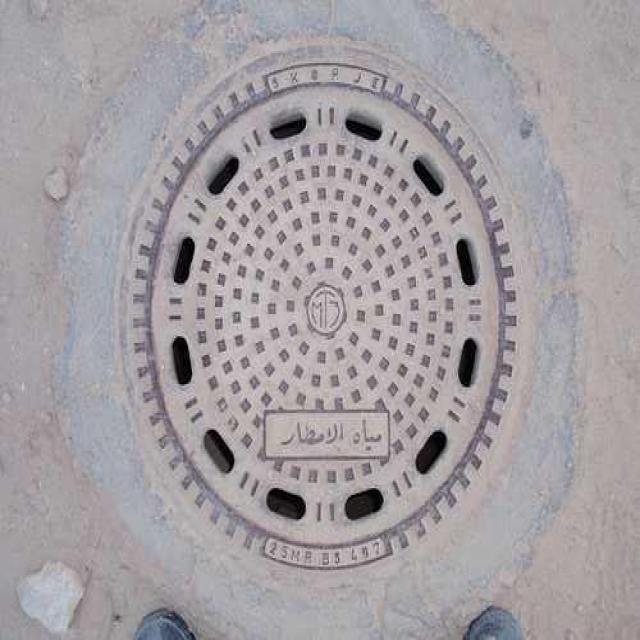manhole: (125, 48, 518, 569)
